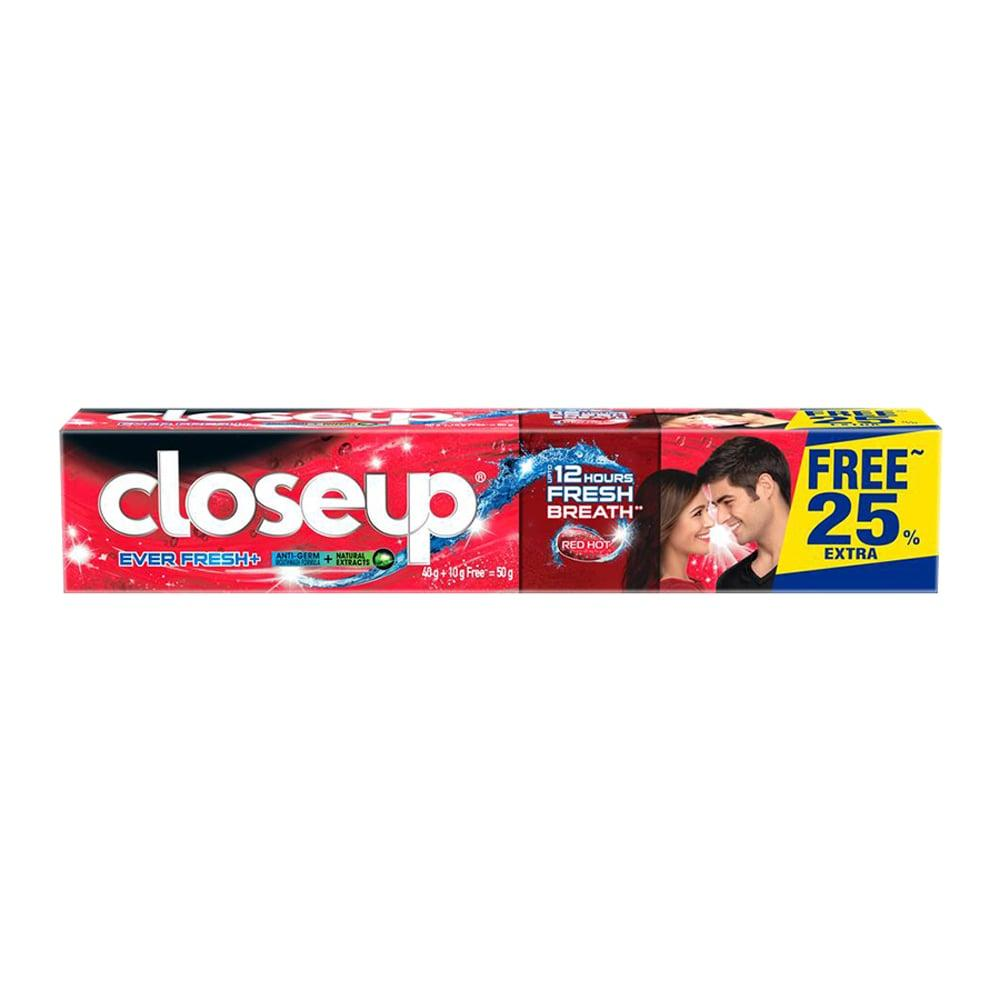CloseUp: (58, 393, 943, 601)
